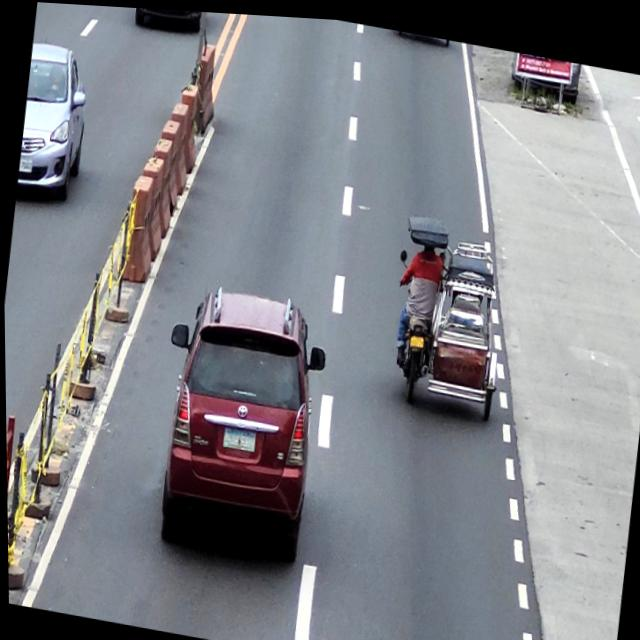Car: (144, 277, 334, 566), (14, 40, 94, 202)
License-Plate: (220, 423, 256, 451), (408, 328, 423, 344), (18, 156, 32, 171)
Tricycle: (381, 207, 514, 416)
